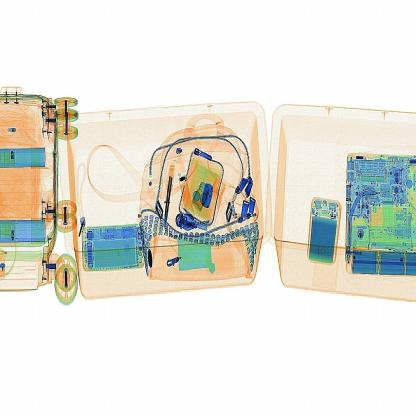gun: (154, 153, 178, 239)
